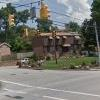Traffic light: (35, 2, 62, 30)
